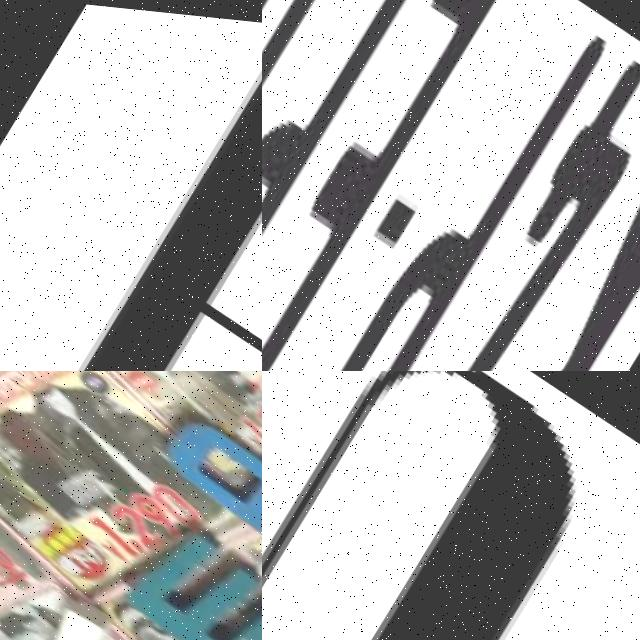4: (353, 16, 640, 371)
B: (262, 0, 390, 370)
E: (262, 0, 503, 371)
H: (77, 62, 262, 371), (18, 583, 201, 640)
K: (401, 45, 640, 371)
M: (116, 505, 262, 640)
P: (278, 0, 612, 371), (262, 0, 457, 371), (156, 371, 262, 536)
U: (262, 371, 640, 640)
